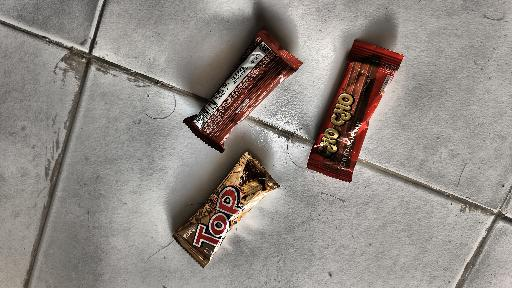chocho: (171, 34, 437, 166)
top: (181, 123, 273, 278)
